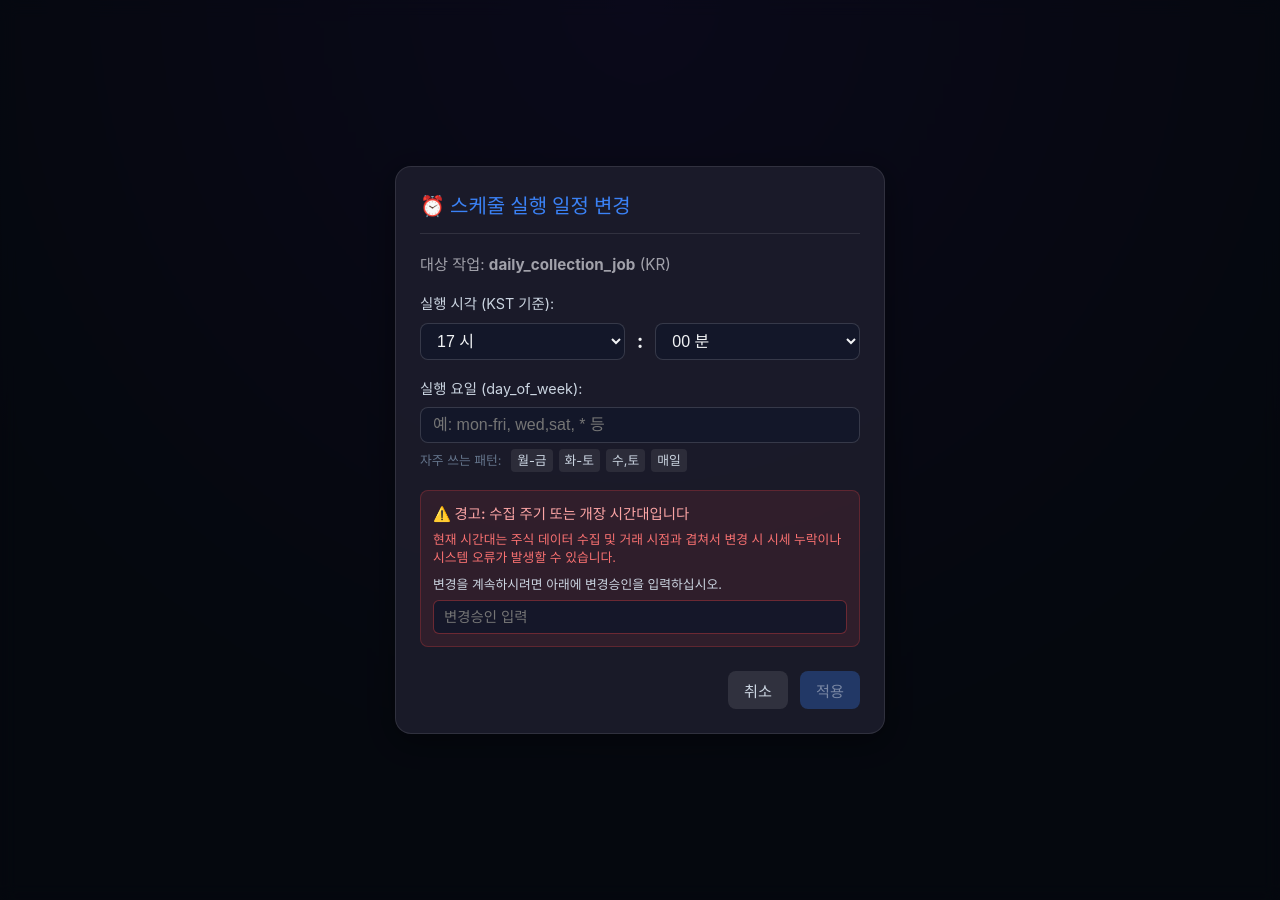
ScheduleModal.vue › 수집 가동 시간대(장중)일 경우 경고창을 표시하고 "변경승인" 입력 전까지 적용 버튼을 비활성화한다
Expected: the element with class "danger-warning" is shown, [420,490,860,647]
Expected: the button with class "btn-confirm" is disabled, [800,671,860,709]
// 잘못된 단어 입력 시 비활성화 유지
In the field with class "safety-input": point(640, 617) [433,600,847,634], type "확인"
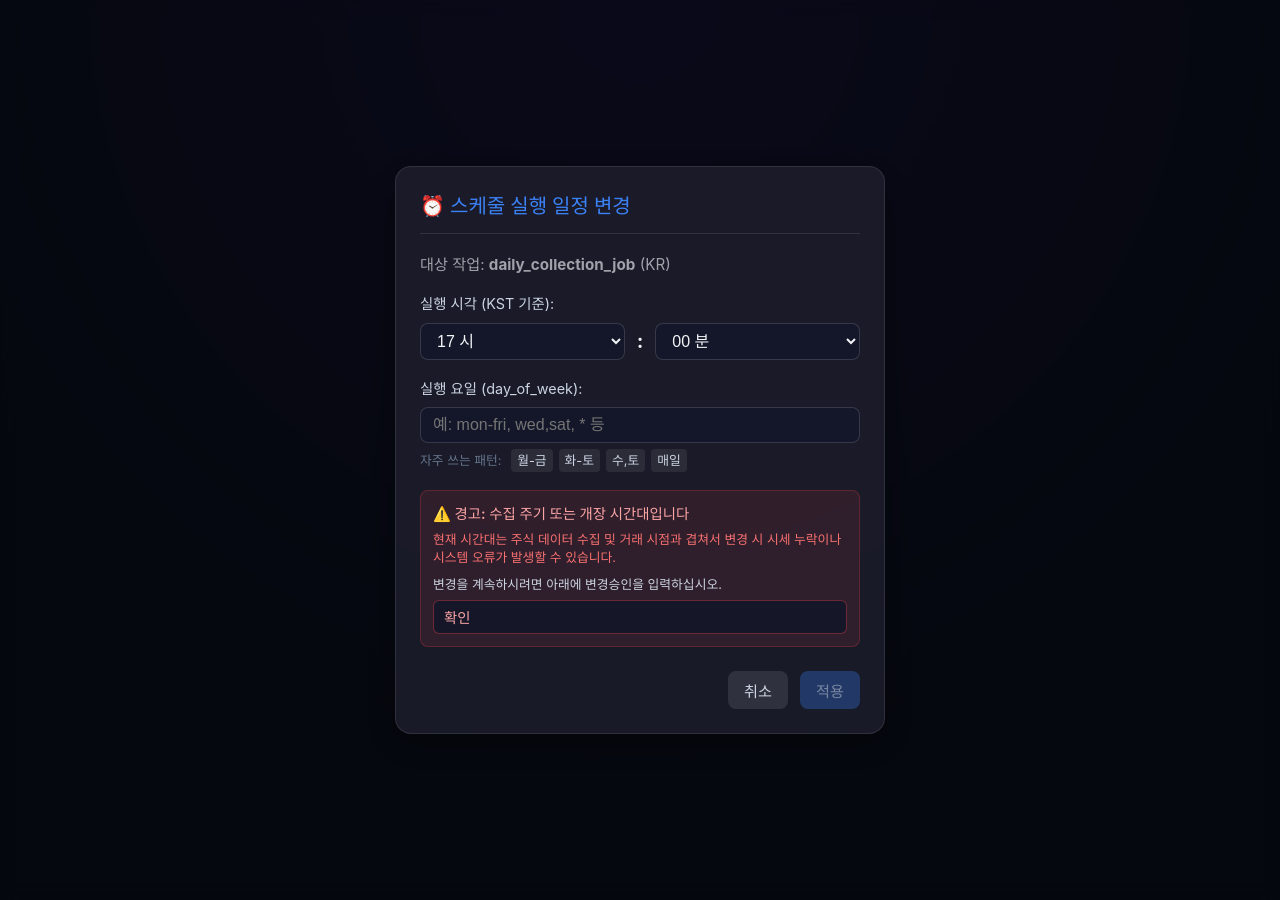
Expected: the button with class "btn-confirm" is disabled, [800,671,860,709]
// 올바른 단어 입력 시 활성화
Replace the text in the field with class "safety-input" with "변경승인": point(640, 617) [433,600,847,634]
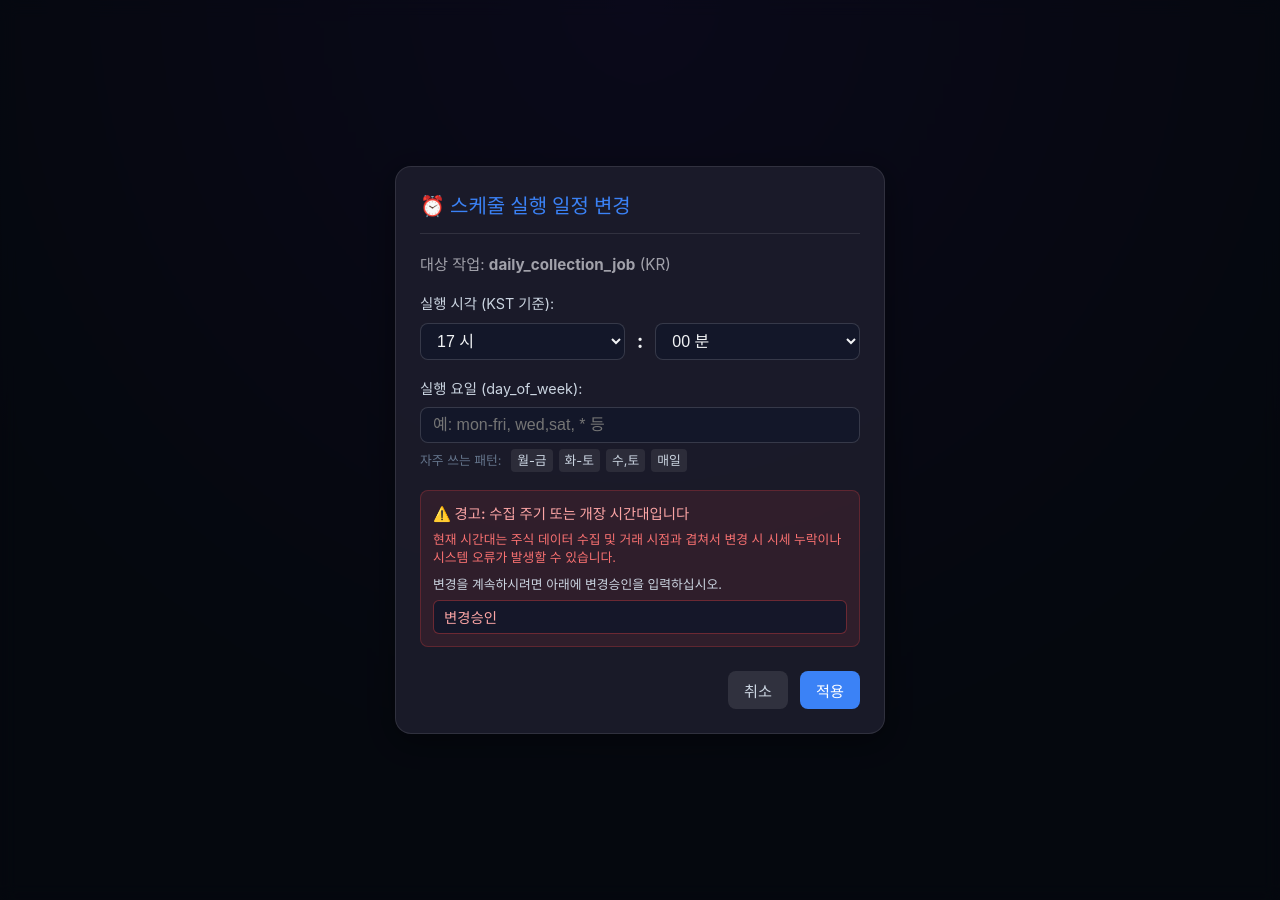
Expected: the button with class "btn-confirm" is enabled, [800,671,860,709]
